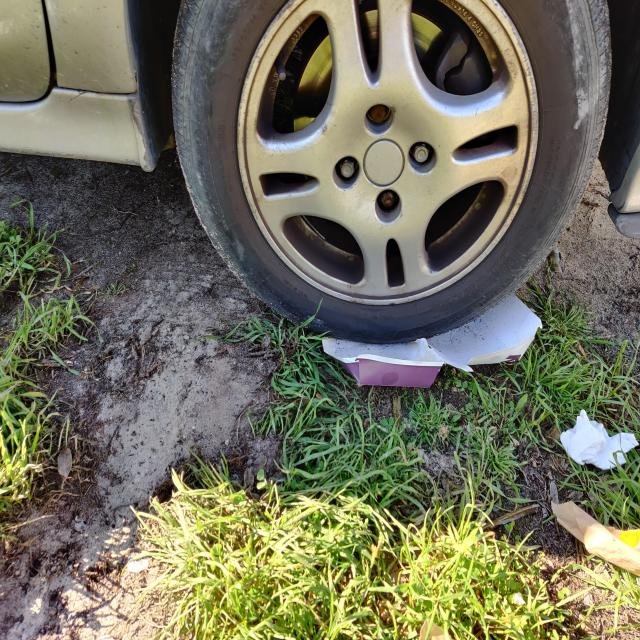litter: (314, 264, 547, 392)
